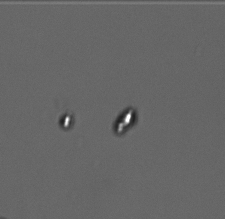Living Cell: (112, 105, 135, 137), (57, 112, 75, 130)
